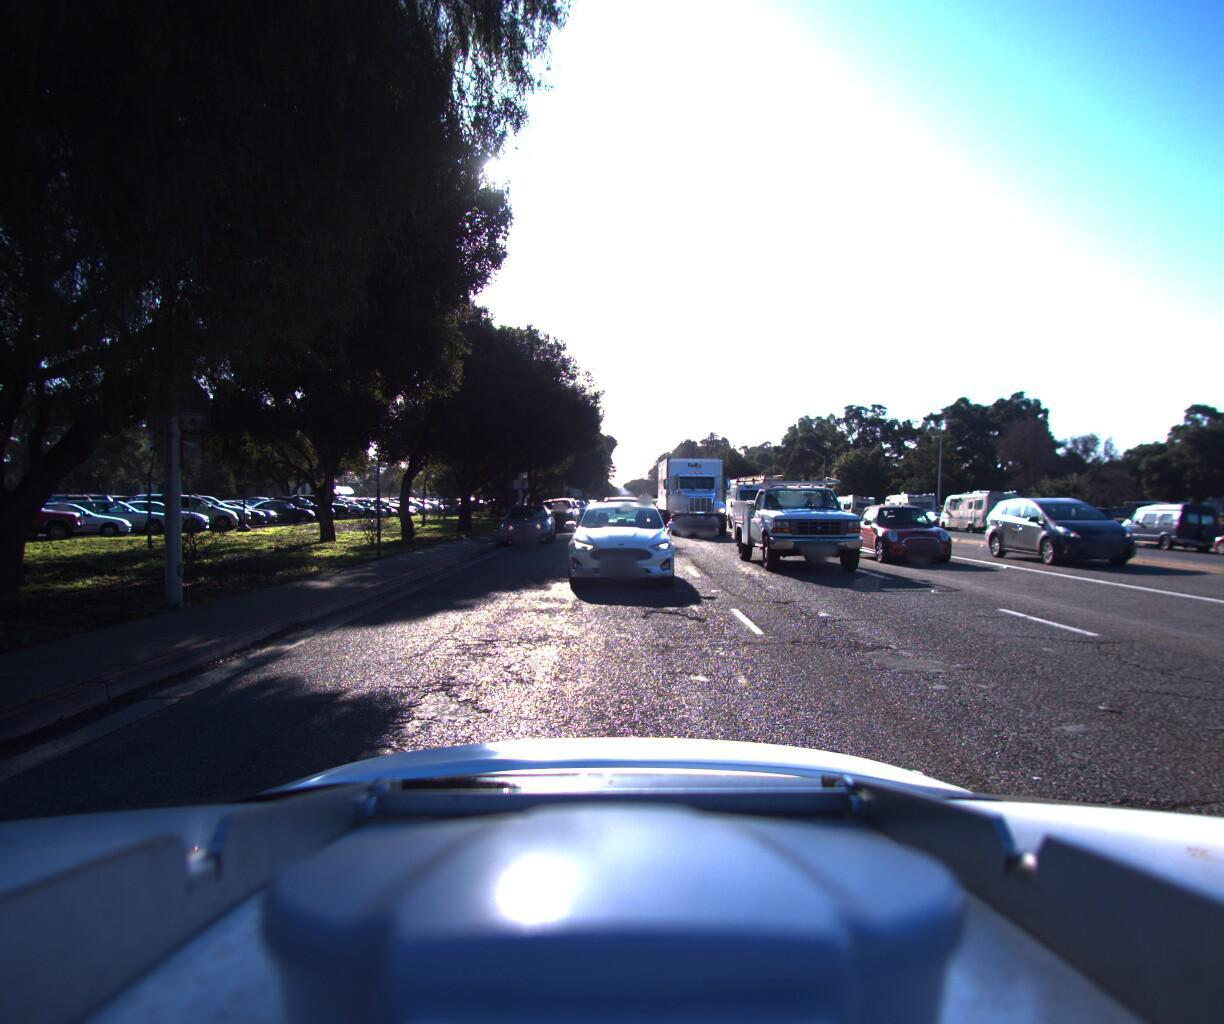car: (732, 465, 877, 576), (997, 488, 1177, 570), (561, 493, 676, 592), (854, 498, 970, 563), (1116, 499, 1224, 548), (589, 494, 648, 549), (721, 473, 773, 527), (497, 499, 558, 542), (540, 495, 576, 530), (914, 507, 957, 527), (1209, 515, 1224, 557), (636, 489, 654, 509)
other_vehicle: (934, 485, 1035, 531), (879, 487, 942, 523)
truck: (652, 450, 736, 535)
